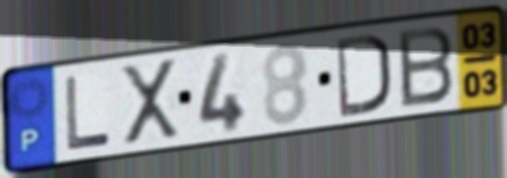4: (196, 48, 249, 136)
8: (260, 40, 311, 129)
B: (394, 23, 456, 111)
D: (334, 30, 394, 120)
L: (62, 74, 114, 154)
X: (117, 55, 183, 149)
